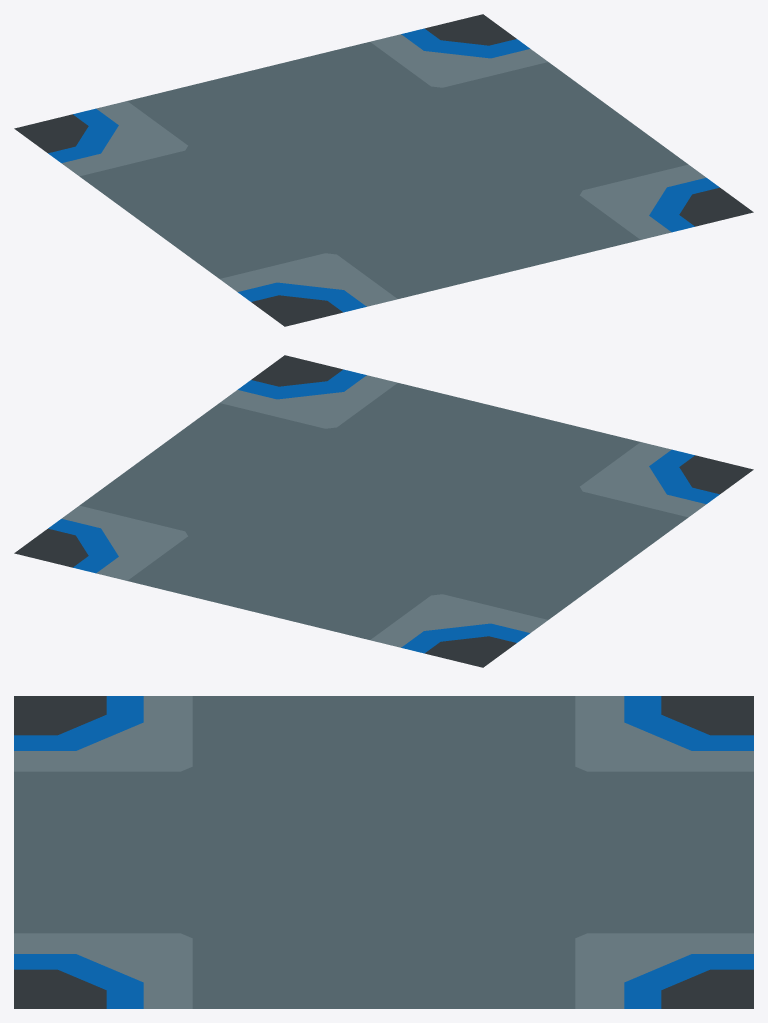
The model's file is Ceiling_type_C_032.fbx.
3 renders of one model, top to bottom at view 1: azimuth 30°, elevation 25°; view 2: azimuth 150°, elevation 25°; view 3: azimuth 270°, elevation 25°, orthographic. The views are drawn at different scales.
Visible parts, largest first — view 1: Ceiling_type_C_032; view 2: Ceiling_type_C_032; view 3: Ceiling_type_C_032.
Boxes of the visible parts, bbox=[...] form: Ceiling_type_C_032: bbox=[14, 14, 753, 326]; Ceiling_type_C_032: bbox=[14, 355, 753, 667]; Ceiling_type_C_032: bbox=[14, 696, 753, 1008].
Size of the model in its own units: 400 by 400 by 6.18.
